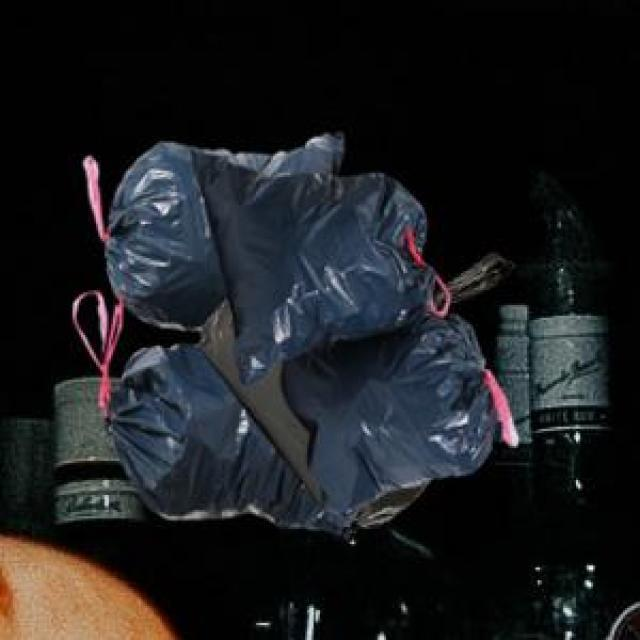waste: (108, 135, 499, 532)
